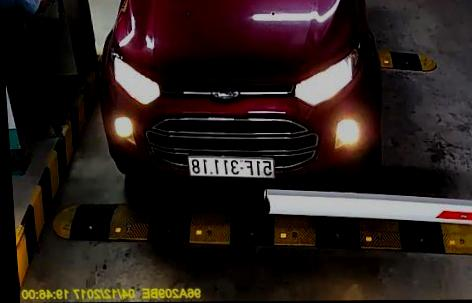License_Plate: (186, 153, 278, 180)
